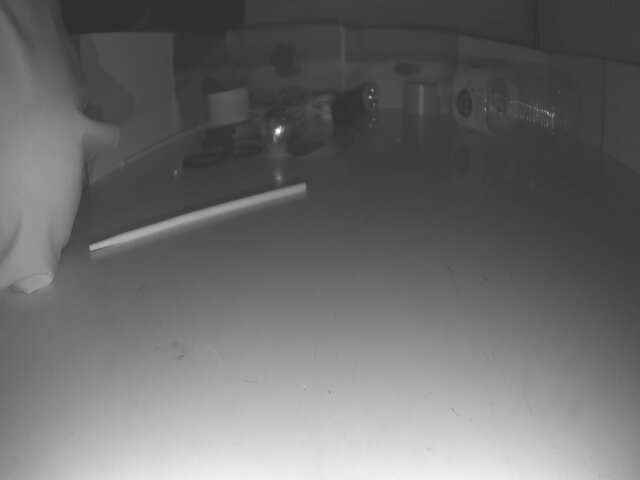Live: (262, 106, 293, 153)
